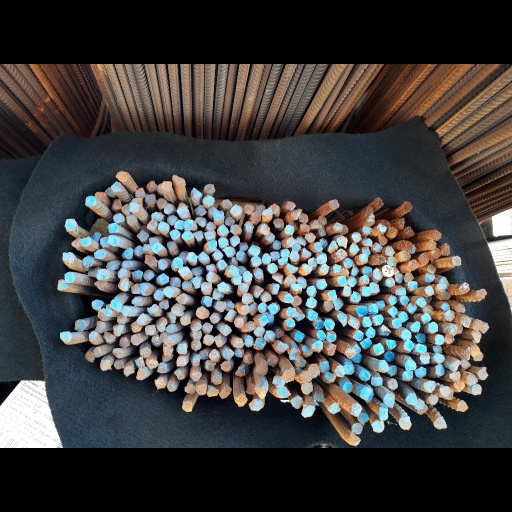dipstick: (312, 385, 325, 401), (378, 403, 389, 421), (299, 262, 313, 276), (195, 306, 210, 319), (323, 341, 336, 356), (360, 387, 373, 402), (325, 240, 339, 253), (376, 220, 390, 233), (139, 282, 153, 295), (103, 330, 116, 344), (174, 367, 188, 380), (281, 368, 294, 382), (301, 404, 315, 417), (448, 358, 461, 372), (370, 420, 384, 433), (433, 416, 447, 429), (296, 274, 308, 289), (115, 170, 130, 182), (308, 363, 320, 378), (350, 402, 362, 417), (383, 393, 395, 408), (377, 358, 389, 373), (395, 239, 411, 250), (275, 387, 291, 398), (248, 244, 261, 257), (386, 226, 399, 239), (172, 174, 185, 187), (144, 253, 157, 266), (171, 303, 184, 316), (146, 357, 159, 370), (219, 385, 232, 398), (234, 394, 247, 407), (429, 228, 442, 241), (348, 316, 360, 330), (284, 274, 296, 288), (118, 278, 130, 292), (255, 385, 267, 399), (476, 366, 488, 380), (455, 400, 469, 412), (470, 329, 482, 343), (337, 312, 348, 327), (248, 399, 263, 410), (421, 381, 436, 392), (156, 316, 166, 332), (335, 248, 348, 260), (356, 253, 369, 265), (137, 230, 150, 242), (65, 218, 77, 231), (110, 299, 122, 312), (95, 320, 107, 333), (89, 330, 101, 343), (59, 331, 72, 343), (100, 358, 112, 371), (206, 384, 219, 396), (254, 336, 266, 349), (272, 375, 285, 387), (328, 401, 340, 414), (359, 369, 371, 382), (345, 346, 357, 359), (371, 343, 384, 355), (414, 366, 427, 378), (371, 267, 382, 281), (332, 297, 343, 311), (177, 202, 188, 216), (142, 244, 156, 255), (117, 268, 131, 279), (106, 260, 120, 271), (298, 371, 312, 382), (406, 392, 417, 406), (250, 211, 262, 223), (216, 259, 228, 271), (336, 236, 348, 248), (348, 243, 360, 255), (358, 274, 370, 286), (326, 289, 338, 301), (304, 296, 316, 308), (399, 250, 411, 262), (387, 306, 399, 318), (190, 187, 202, 199), (160, 180, 172, 192), (190, 276, 202, 288), (122, 247, 134, 259), (71, 236, 83, 248), (74, 319, 86, 331), (214, 300, 226, 312), (224, 310, 236, 322), (163, 336, 175, 348), (264, 330, 276, 342), (311, 340, 323, 352), (255, 364, 267, 376), (301, 383, 313, 395), (291, 396, 303, 408), (334, 365, 346, 377), (409, 320, 421, 332), (471, 319, 483, 331), (443, 310, 455, 322), (258, 224, 271, 235), (335, 275, 348, 286), (349, 291, 362, 302), (355, 306, 368, 317), (306, 285, 317, 298), (363, 215, 376, 226), (399, 294, 410, 307), (194, 205, 207, 216), (157, 220, 170, 231), (190, 265, 203, 276), (241, 293, 254, 304), (157, 273, 170, 284), (107, 234, 120, 245), (62, 252, 75, 263), (91, 299, 104, 310), (190, 319, 201, 332), (223, 347, 234, 360), (319, 360, 330, 373), (342, 381, 353, 394), (419, 352, 430, 365), (418, 252, 429, 265), (429, 248, 442, 259), (87, 267, 101, 277), (235, 250, 247, 261), (222, 246, 234, 257), (272, 272, 283, 284), (361, 224, 372, 236), (360, 236, 372, 247), (307, 309, 318, 321), (314, 318, 325, 330), (408, 258, 419, 270), (169, 229, 181, 240), (146, 180, 157, 192), (163, 202, 174, 214), (144, 193, 155, 205), (134, 187, 146, 198), (171, 257, 183, 268), (253, 286, 264, 298), (212, 288, 224, 299), (201, 281, 212, 293), (169, 276, 181, 287), (157, 258, 168, 270), (126, 214, 138, 225), (132, 270, 143, 282), (143, 269, 154, 281), (85, 195, 97, 206), (97, 308, 108, 320), (147, 304, 159, 315), (175, 293, 187, 304), (209, 312, 220, 324), (131, 334, 143, 345), (203, 333, 214, 345), (231, 338, 243, 349), (191, 370, 202, 382), (181, 401, 193, 412), (235, 364, 246, 376), (284, 317, 296, 328), (294, 356, 306, 367), (324, 372, 336, 383), (358, 413, 369, 425), (360, 337, 371, 349), (384, 350, 395, 362), (379, 324, 391, 335), (402, 370, 413, 382), (403, 339, 414, 351), (426, 393, 438, 404), (439, 386, 450, 398), (466, 374, 478, 385), (471, 383, 482, 395), (453, 380, 465, 391), (422, 303, 434, 314), (417, 403, 429, 414), (348, 435, 360, 446), (202, 195, 215, 205), (285, 263, 298, 273), (369, 281, 379, 294), (394, 286, 407, 296), (398, 310, 408, 323), (94, 279, 107, 289), (131, 296, 144, 306), (166, 311, 176, 324), (267, 302, 277, 315), (153, 378, 166, 388), (370, 376, 383, 386), (435, 364, 445, 377), (448, 372, 461, 382), (460, 357, 470, 370), (470, 344, 480, 357), (415, 297, 428, 307), (250, 301, 259, 315), (215, 334, 224, 348), (205, 230, 216, 241), (218, 224, 229, 235), (230, 224, 241, 235), (317, 215, 328, 226), (332, 222, 343, 233), (267, 262, 278, 273), (217, 237, 228, 248), (208, 240, 219, 251), (318, 264, 329, 275), (343, 257, 354, 268), (351, 232, 362, 243), (347, 276, 358, 287), (342, 286, 353, 297), (316, 279, 327, 290), (324, 319, 335, 330), (373, 196, 384, 207), (385, 277, 396, 288), (403, 271, 414, 282), (387, 294, 398, 305), (406, 302, 417, 313), (173, 219, 184, 230), (166, 214, 177, 225), (147, 219, 158, 230), (238, 282, 249, 293), (151, 242, 162, 253), (99, 236, 110, 247), (145, 324, 156, 335), (131, 321, 142, 332), (140, 347, 151, 358), (254, 326, 265, 337), (124, 366, 135, 377), (204, 359, 215, 370), (184, 383, 195, 394), (196, 384, 207, 395), (212, 374, 223, 385), (220, 361, 231, 372), (289, 348, 300, 359), (302, 345, 313, 356), (268, 355, 279, 366), (246, 383, 257, 394), (365, 327, 376, 338), (405, 360, 416, 371), (415, 343, 426, 354), (472, 351, 483, 362), (459, 282, 470, 293), (476, 288, 487, 299), (424, 285, 435, 296), (424, 271, 435, 282), (230, 204, 240, 216), (203, 183, 215, 193), (251, 256, 263, 266), (253, 267, 263, 279), (403, 226, 415, 236), (151, 211, 163, 221), (178, 266, 190, 276), (206, 271, 218, 281), (164, 285, 174, 297), (107, 222, 119, 232), (113, 213, 125, 223), (82, 255, 92, 267), (137, 313, 147, 325), (202, 322, 212, 334), (221, 324, 231, 336), (119, 337, 129, 349), (84, 351, 94, 363), (159, 331, 169, 343), (135, 356, 145, 368), (157, 361, 167, 373), (275, 326, 285, 338), (388, 378, 398, 390), (428, 322, 438, 334), (434, 352, 444, 364), (415, 397, 425, 409), (461, 316, 471, 328), (448, 324, 458, 336), (439, 290, 451, 300), (230, 235, 239, 248), (283, 201, 296, 210), (179, 251, 188, 264), (440, 243, 449, 256), (463, 346, 471, 360), (193, 230, 203, 241), (244, 221, 254, 232), (213, 210, 224, 220), (272, 218, 283, 228), (329, 199, 340, 209), (305, 232, 316, 242), (310, 219, 321, 229), (289, 251, 299, 262), (269, 203, 279, 214), (261, 253, 271, 264), (238, 241, 249, 251), (228, 265, 238, 276), (332, 264, 343, 274), (361, 287, 372, 297), (323, 300, 333, 311), (368, 303, 378, 314), (363, 205, 374, 215), (402, 201, 412, 212), (371, 242, 381, 253), (384, 245, 394, 256), (407, 280, 417, 291), (183, 219, 194, 229), (129, 202, 139, 213), (198, 251, 208, 262), (242, 270, 252, 281), (217, 281, 228, 291), (181, 280, 192, 290), (134, 245, 144, 256), (121, 260, 132, 270), (153, 290, 164, 300), (130, 284, 141, 294), (111, 182, 122, 192), (111, 199, 121, 210), (105, 187, 116, 197), (94, 248, 104, 259), (81, 236, 92, 246), (57, 279, 67, 290), (202, 296, 212, 307), (166, 323, 176, 334), (238, 305, 249, 315), (113, 324, 123, 335), (113, 348, 124, 358), (114, 359, 125, 369), (190, 340, 201, 350), (245, 321, 256, 331), (163, 346, 174, 356), (176, 356, 187, 366), (234, 347, 244, 358), (167, 381, 177, 392), (243, 353, 253, 364), (285, 306, 296, 316), (294, 331, 304, 342), (326, 331, 336, 342), (352, 330, 363, 340), (385, 339, 396, 349), (373, 314, 383, 325), (392, 318, 402, 329), (401, 329, 411, 340), (454, 302, 465, 312), (451, 255, 461, 266), (400, 420, 411, 430), (265, 230, 274, 242), (212, 250, 224, 259), (350, 265, 359, 277), (362, 315, 371, 327), (94, 191, 106, 200), (152, 334, 161, 346), (190, 331, 202, 340), (209, 348, 218, 360), (244, 335, 253, 347), (389, 364, 398, 376), (435, 333, 444, 345), (480, 322, 489, 334), (435, 283, 447, 292), (130, 197, 143, 205), (148, 237, 161, 245), (182, 230, 192, 240), (208, 207, 218, 217), (284, 225, 294, 235), (296, 236, 306, 246), (244, 205, 254, 215), (270, 251, 280, 261), (308, 257, 318, 267), (319, 237, 329, 247), (387, 256, 397, 266), (394, 273, 404, 283), (157, 198, 167, 208), (159, 299, 169, 309), (225, 301, 235, 311), (234, 318, 244, 328), (180, 315, 190, 325), (177, 343, 187, 353), (421, 313, 431, 323), (444, 333, 454, 343), (427, 264, 437, 274), (427, 240, 437, 250), (224, 216, 235, 225), (222, 199, 233, 208), (299, 223, 310, 232), (311, 242, 322, 251), (301, 247, 310, 258), (396, 218, 405, 229), (378, 235, 387, 246), (206, 263, 217, 272), (270, 283, 279, 294), (122, 203, 131, 214), (64, 271, 73, 282), (257, 302, 266, 313), (117, 314, 128, 323), (92, 347, 101, 358), (277, 343, 288, 352), (415, 333, 426, 342), (440, 302, 451, 311), (438, 276, 449, 285), (259, 315, 267, 327), (192, 355, 200, 367), (317, 226, 326, 236), (316, 254, 326, 263), (272, 240, 282, 249), (262, 207, 272, 216), (229, 256, 238, 266), (362, 266, 372, 275), (187, 252, 197, 261), (283, 294, 293, 303), (292, 296, 301, 306), (121, 305, 130, 315), (199, 349, 208, 359), (295, 312, 305, 321), (316, 330, 325, 340), (277, 257, 288, 265), (291, 283, 302, 291), (261, 293, 272, 301), (162, 354, 173, 362), (105, 304, 112, 316), (287, 237, 296, 246), (291, 210, 301, 218), (345, 364, 353, 374), (353, 343, 361, 353), (292, 243, 301, 251), (255, 204, 263, 213), (167, 241, 176, 249), (233, 275, 242, 283), (281, 249, 291, 256), (238, 265, 246, 273)
